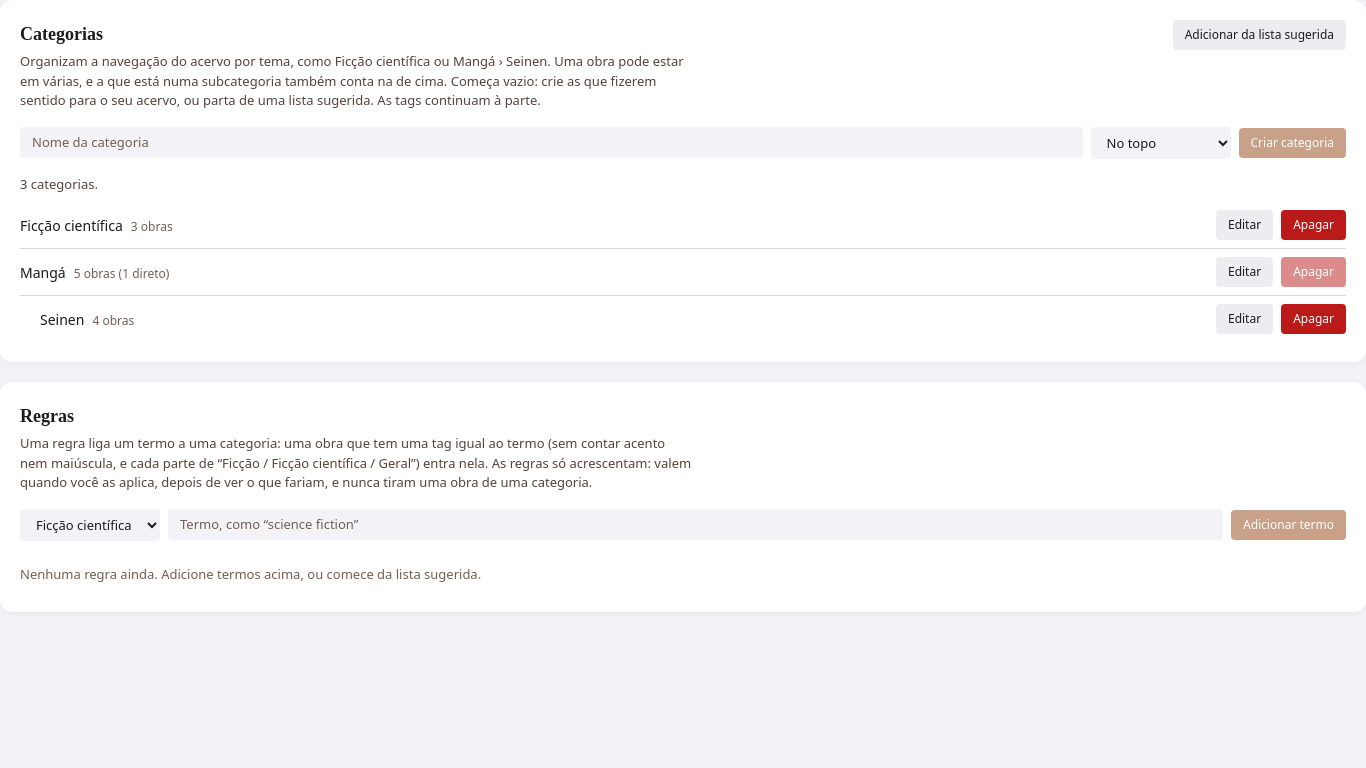
CategoriesTab › keeps the editing open and says why when the server refuses
This screenshot has width=1366, height=768.
Click the button "Editar" in the row of "5 obras": (1245, 272) [1216, 257, 1273, 287]
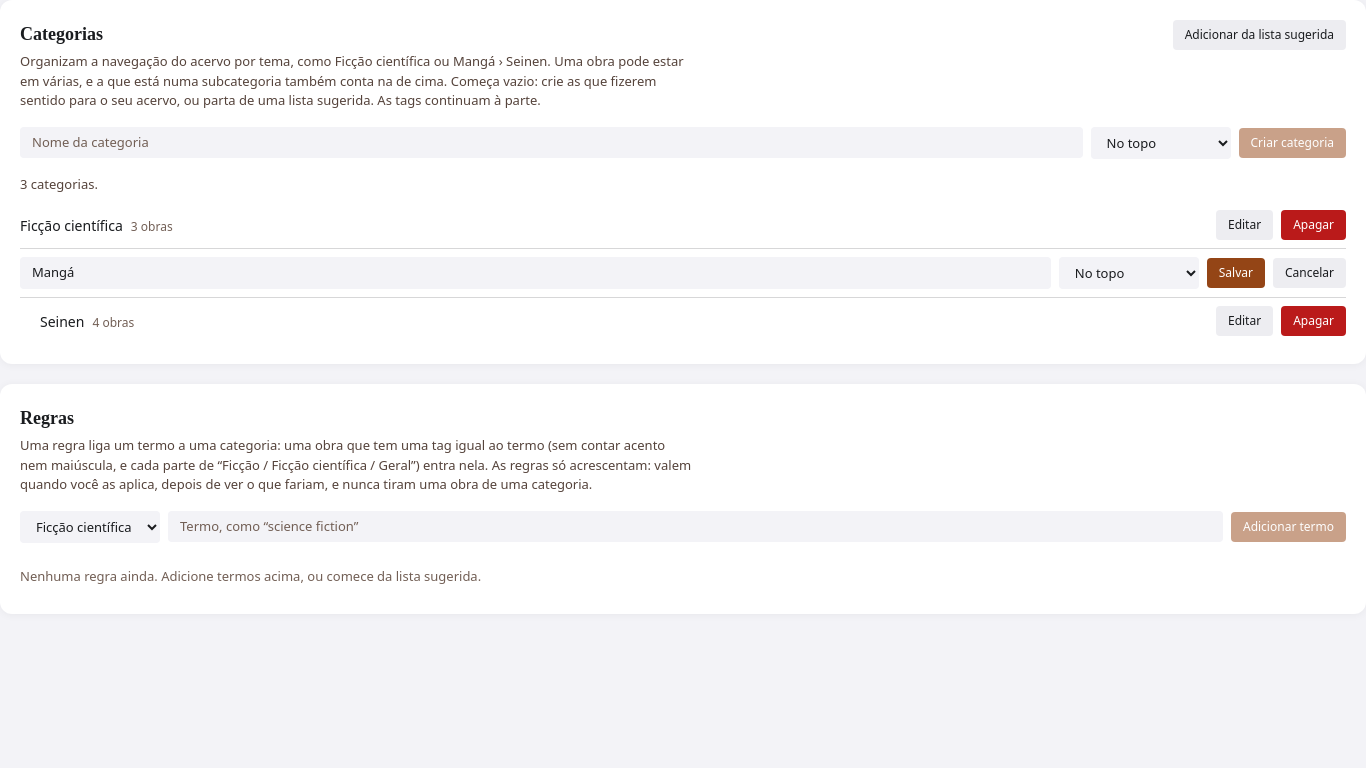
Click the button "Salvar": (1236, 273) [1207, 258, 1265, 288]
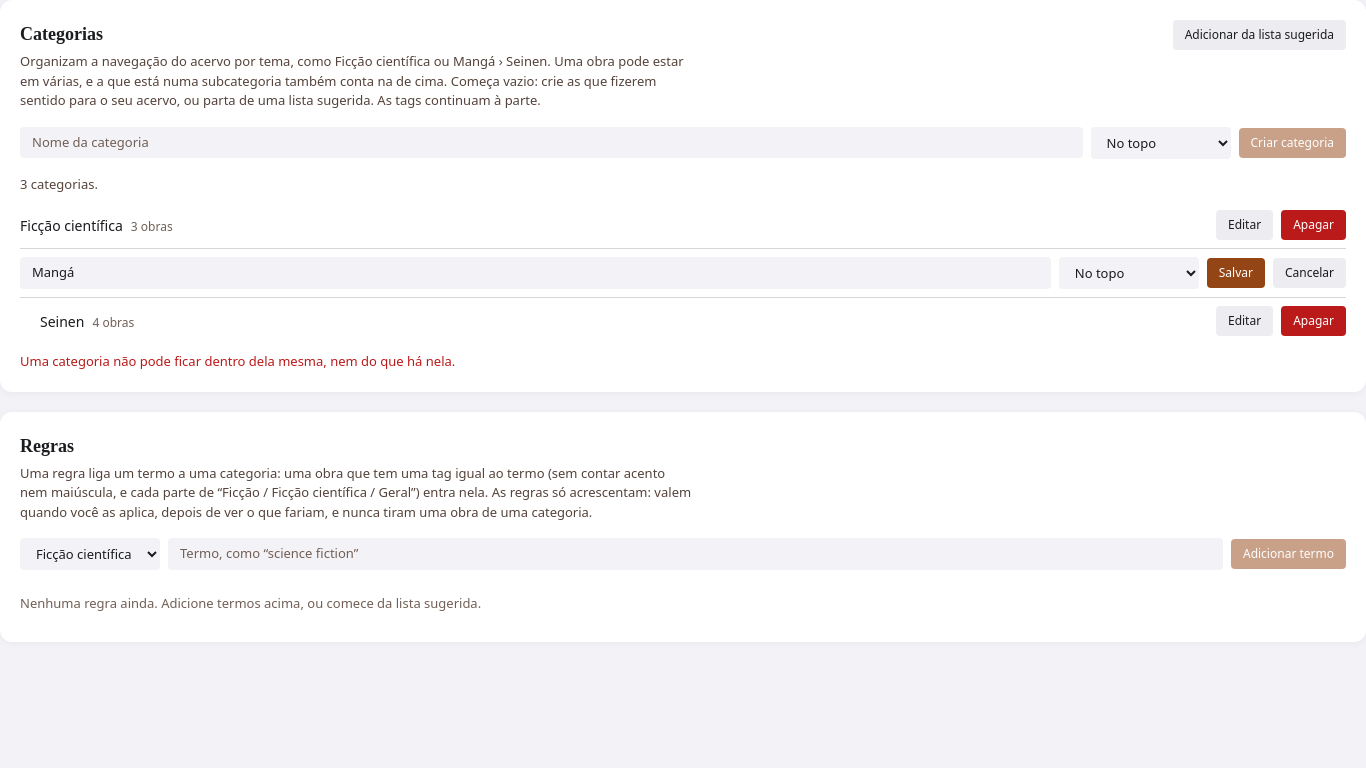
Now the message "Uma categoria não pode ficar dentro dela mesma, nem do que há nela." is shown, box [20, 352, 455, 370]
